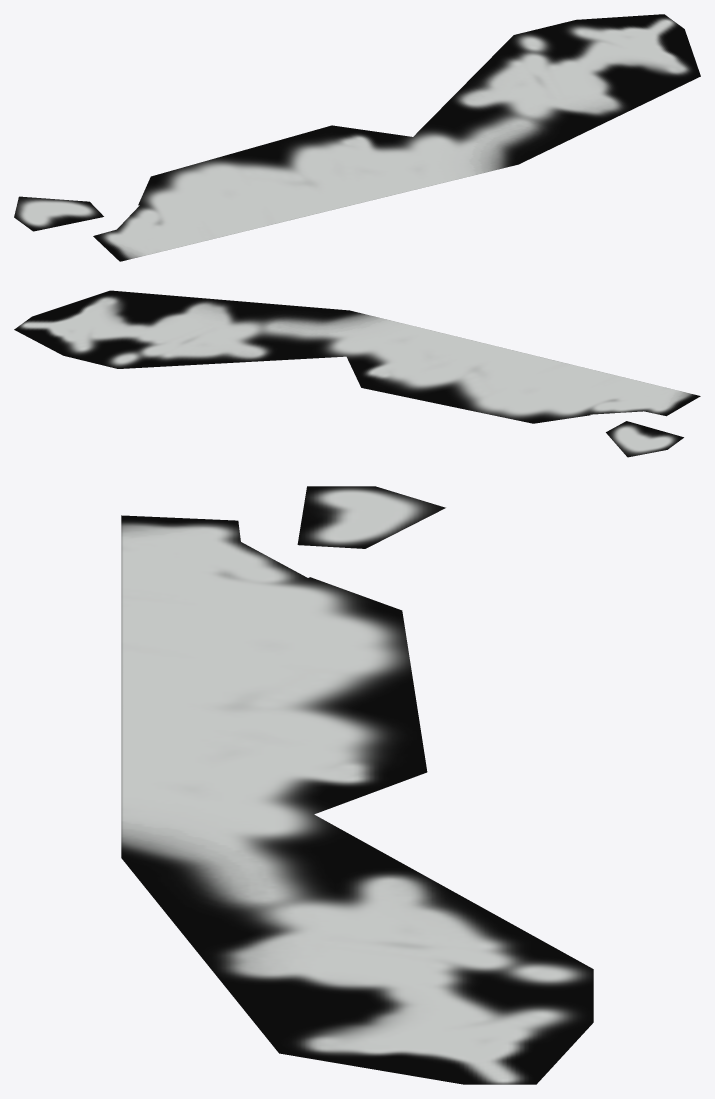
File: scene_eff_1030_05.FBX
3 renders of one model, top to bottom at view 1: azimuth 30°, elevation 25°; view 2: azimuth 150°, elevation 25°; view 3: azimuth 270°, elevation 25°, orthographic. The views are drawn at different scales.
Visible parts, largest first — view 1: scene_eff_1030_05; view 2: scene_eff_1030_05; view 3: scene_eff_1030_05.
Part boxes in pixels (x1,y1,x2,y2): scene_eff_1030_05: (14, 14, 700, 261); scene_eff_1030_05: (14, 290, 700, 457); scene_eff_1030_05: (121, 486, 593, 1084).
Bounding box in the file's own units: 279 × 5.69e-15 × 92.97.
